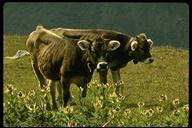cow: (24, 25, 153, 105)
field: (136, 68, 186, 99)
grass: (80, 105, 186, 125)
